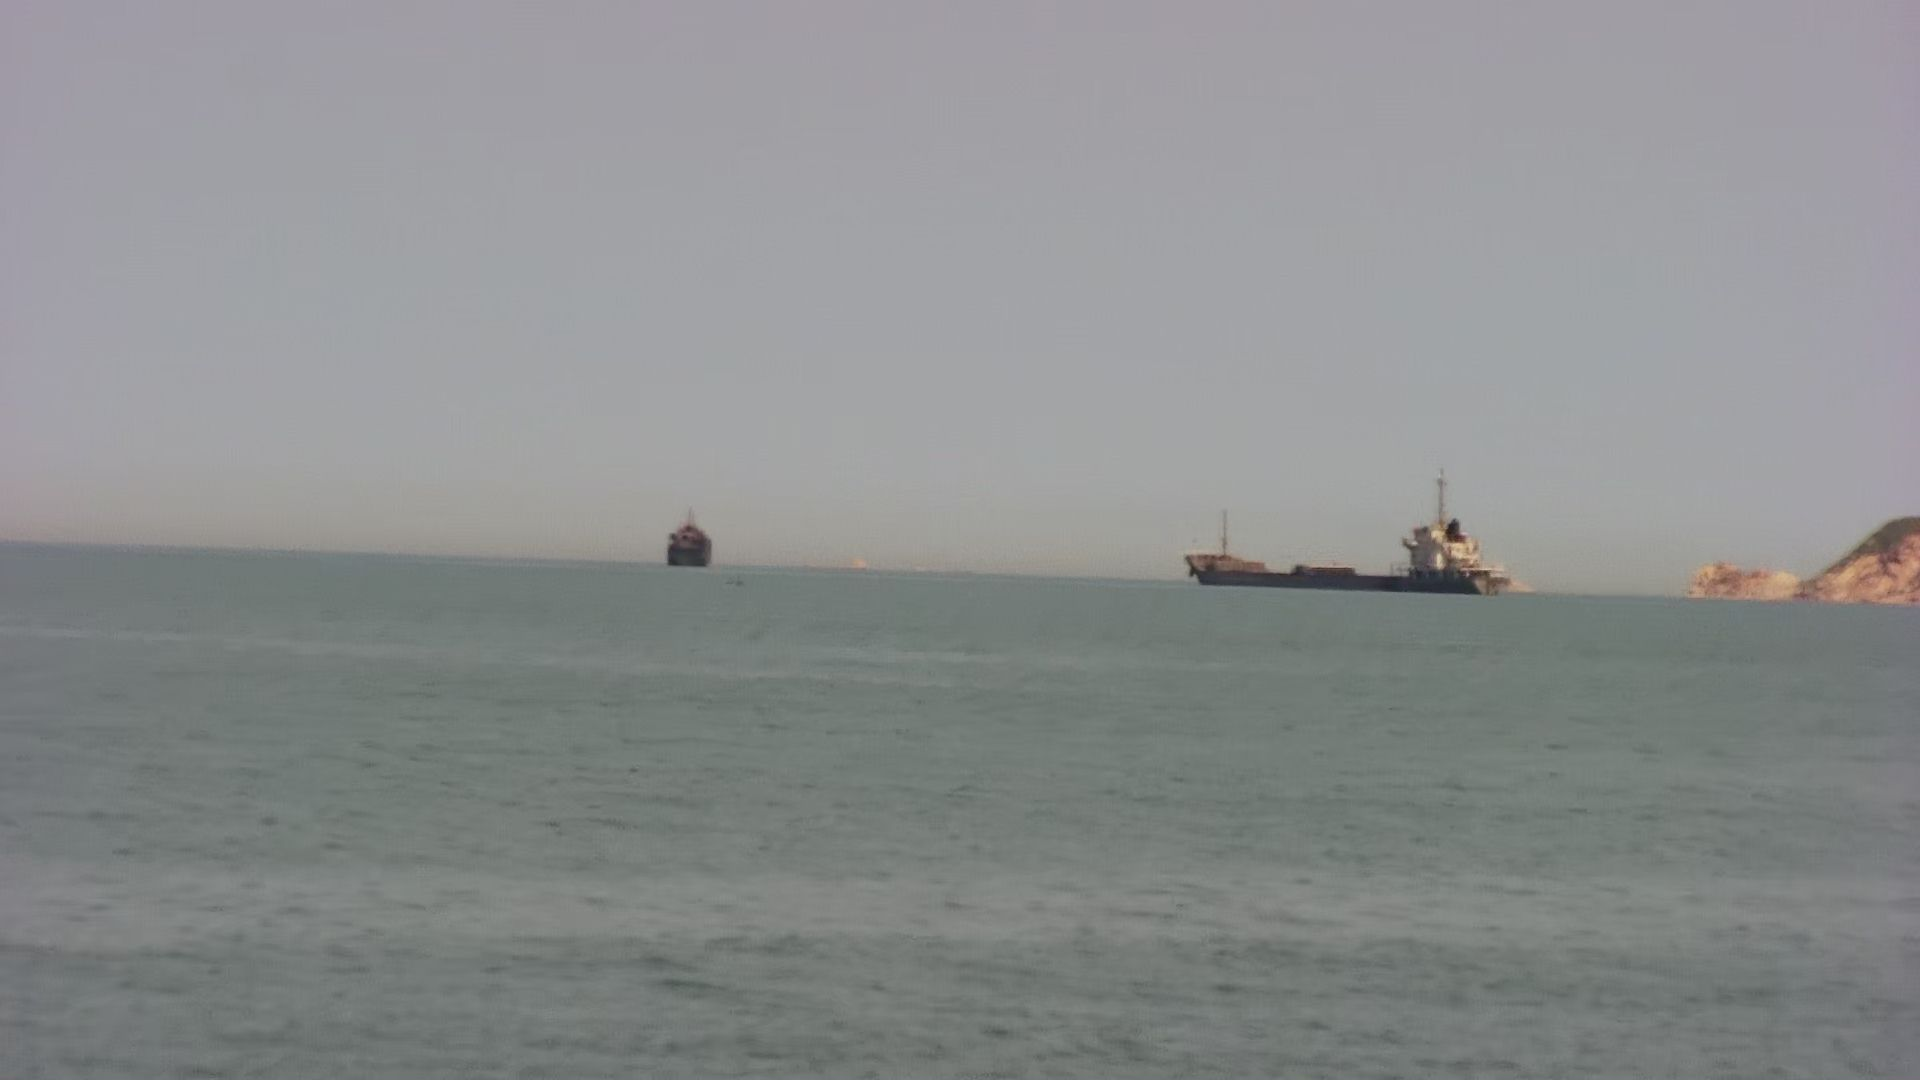rock: (1677, 516, 1920, 611)
ship: (1180, 510, 1520, 601), (663, 506, 719, 572)
